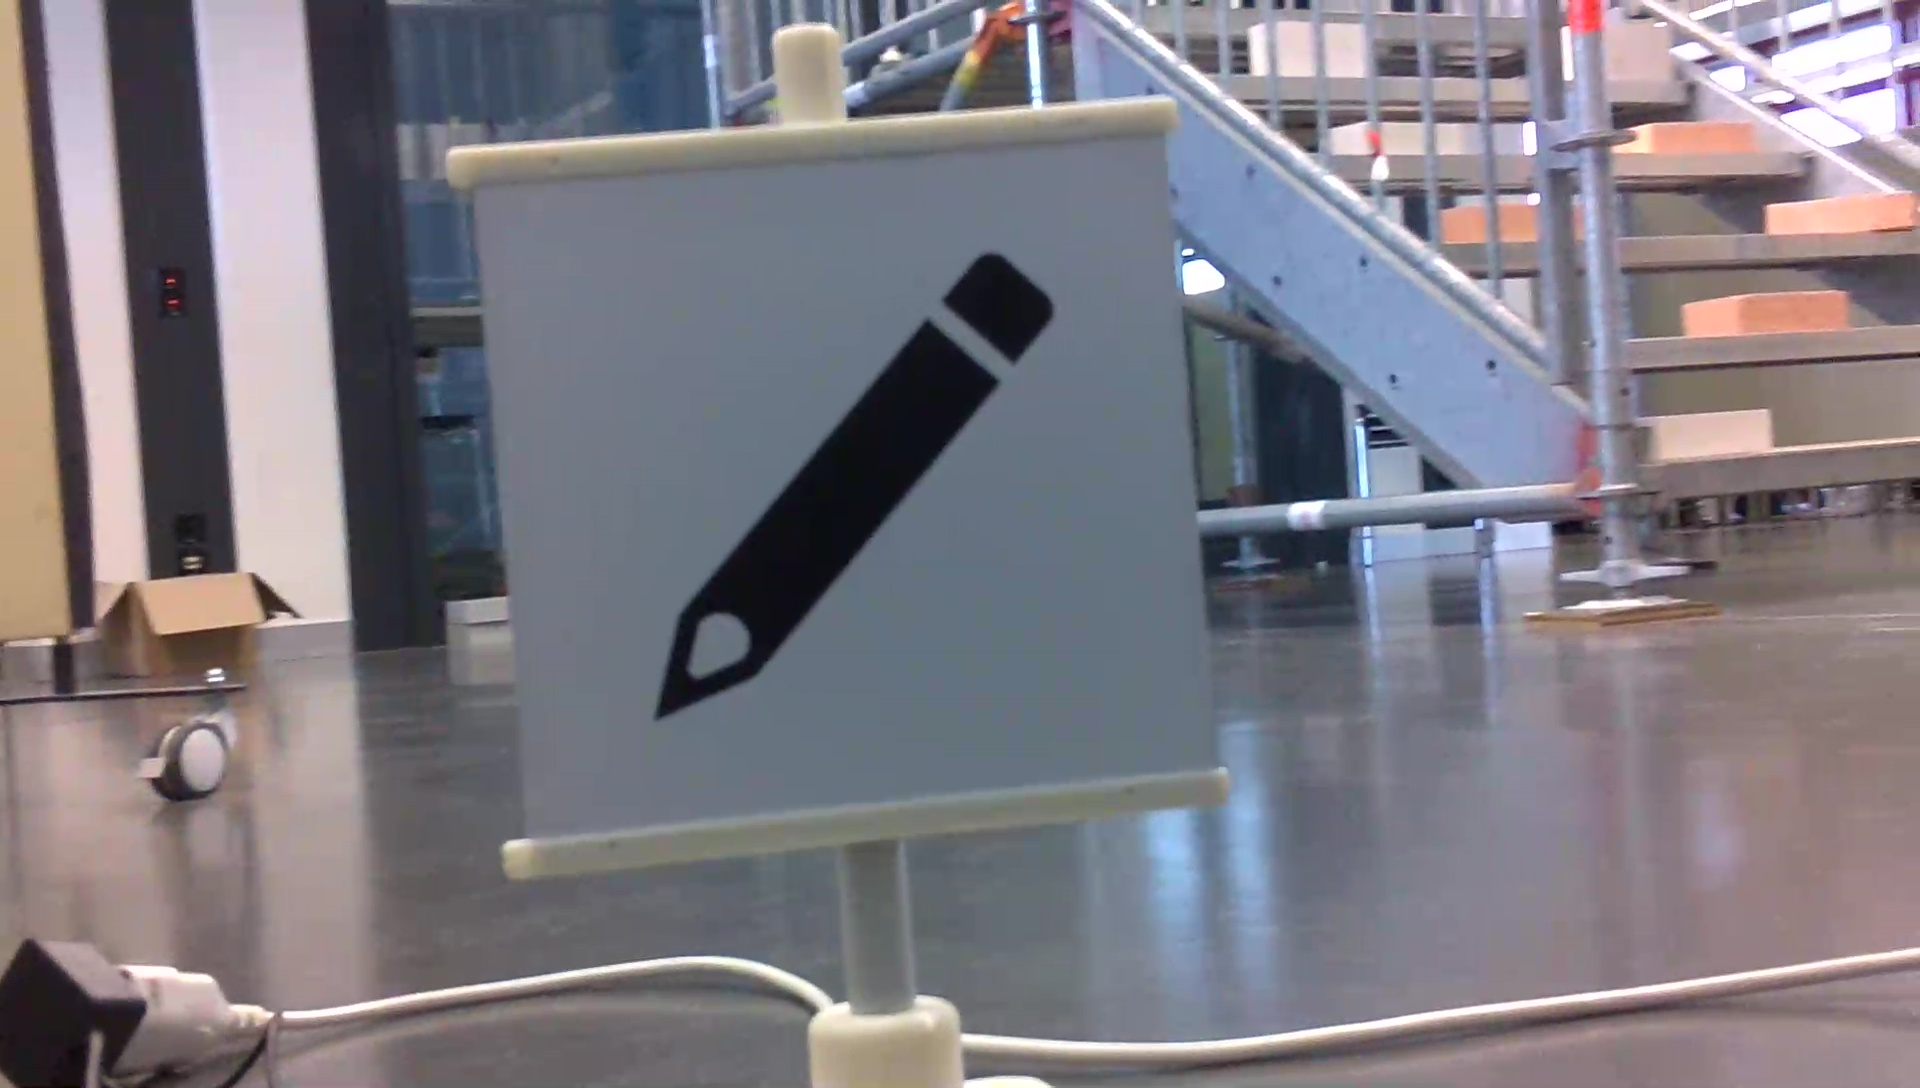brick: (1683, 291, 1842, 334), (1654, 411, 1764, 456), (1764, 196, 1913, 229), (1631, 116, 1749, 152), (1605, 22, 1667, 87)
pencil: (634, 239, 1065, 731)
